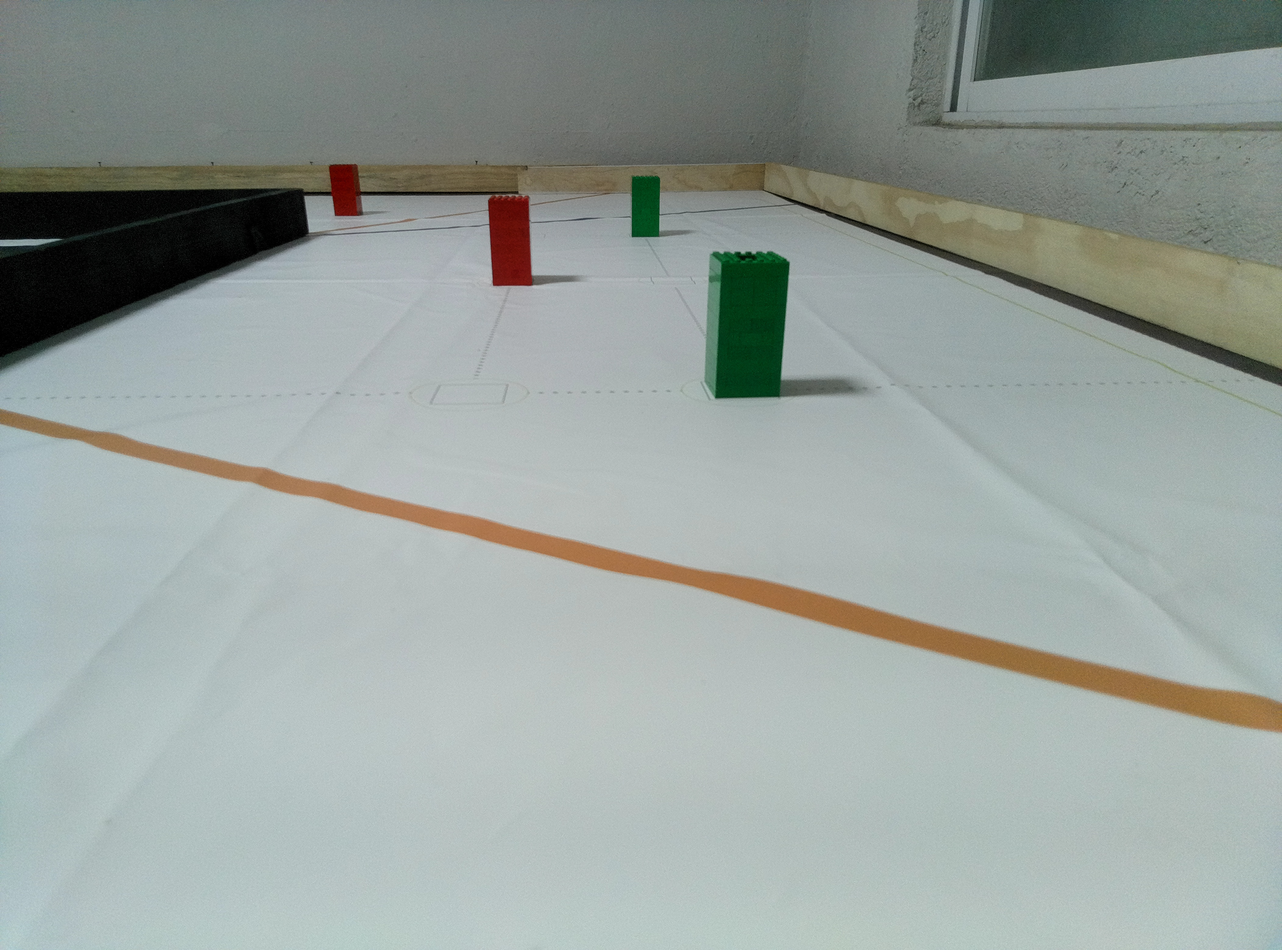greenbox: (700, 248, 793, 400), (629, 173, 661, 238)
redbox: (485, 194, 535, 288), (328, 163, 364, 217)
